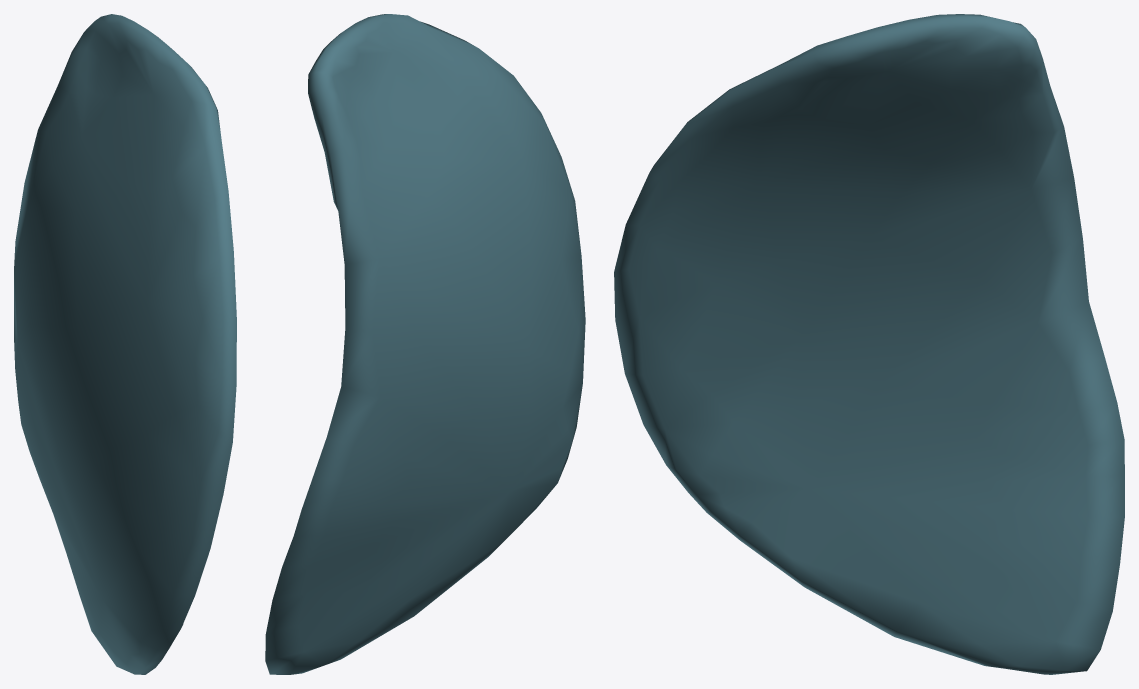
File: Tibialis_anterior_1st_metatarsal_left.glb
3 renders of one model, left to right at view 1: azimuth 30°, elevation 25°; view 2: azimuth 150°, elevation 25°; view 3: azimuth 270°, elevation 25°, orthographic. The views are drawn at different scales.
Parts seen in each view (by area): view 1: Tibialis_anterior_on_1st_metatarsal_bone.l_Generated_Mesh_Fr; view 2: Tibialis_anterior_on_1st_metatarsal_bone.l_Generated_Mesh_Fr; view 3: Tibialis_anterior_on_1st_metatarsal_bone.l_Generated_Mesh_Fr.
Part boxes in pixels (x1,y1,x2,y2): Tibialis_anterior_on_1st_metatarsal_bone.l_Generated_Mesh_Fr: [14, 14, 236, 674]; Tibialis_anterior_on_1st_metatarsal_bone.l_Generated_Mesh_Fr: [265, 14, 585, 674]; Tibialis_anterior_on_1st_metatarsal_bone.l_Generated_Mesh_Fr: [614, 14, 1124, 674].
Bounding box in the file's own units: 0.00262 × 0.0115 × 0.0081.
